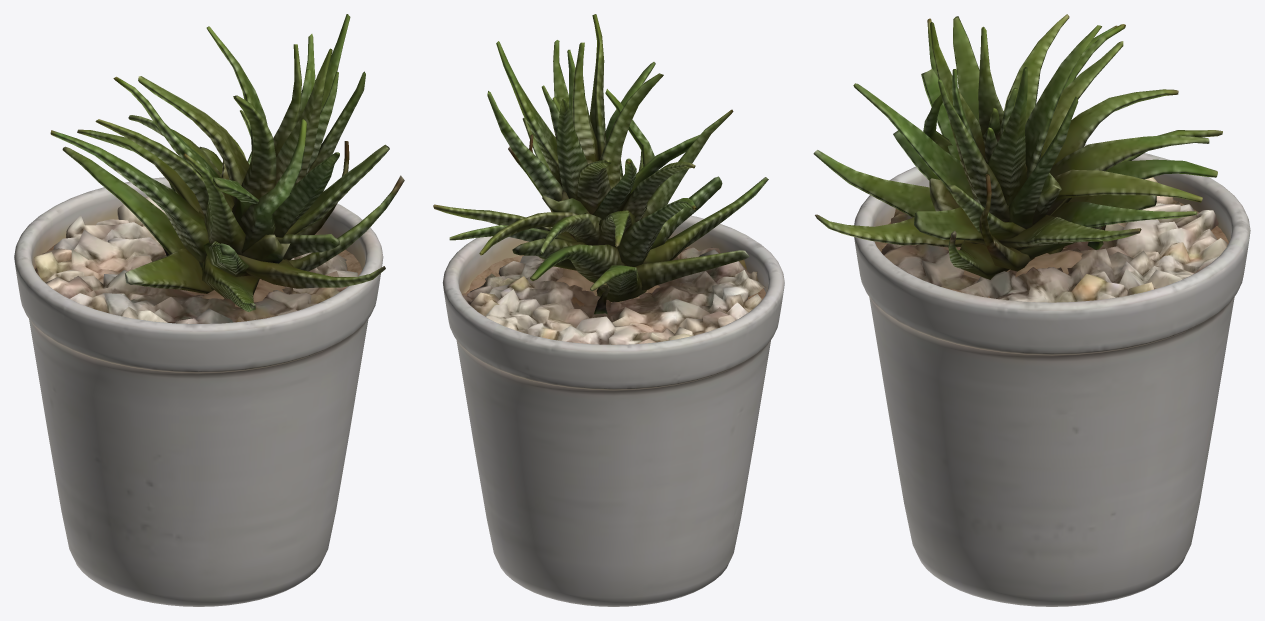
The model's file is pianta_piccola.glb.
3 views of the same model, side by side, from view 1: azimuth 30°, elevation 25°; view 2: azimuth 150°, elevation 25°; view 3: azimuth 270°, elevation 25° (orthographic). The views are drawn at different scales.
Parts seen in each view (by area): view 1: potted_plant_04_ground; view 2: potted_plant_04_ground; view 3: potted_plant_04_ground.
Part boxes in pixels (box(x1,y1,x2,y2)): potted_plant_04_ground: box(14, 14, 404, 606); potted_plant_04_ground: box(433, 14, 784, 606); potted_plant_04_ground: box(813, 14, 1250, 606).
Bounding box in the file's own units: 0.1679 × 0.2675 × 0.1847.
Materials: 1 (1 with a texture image).
